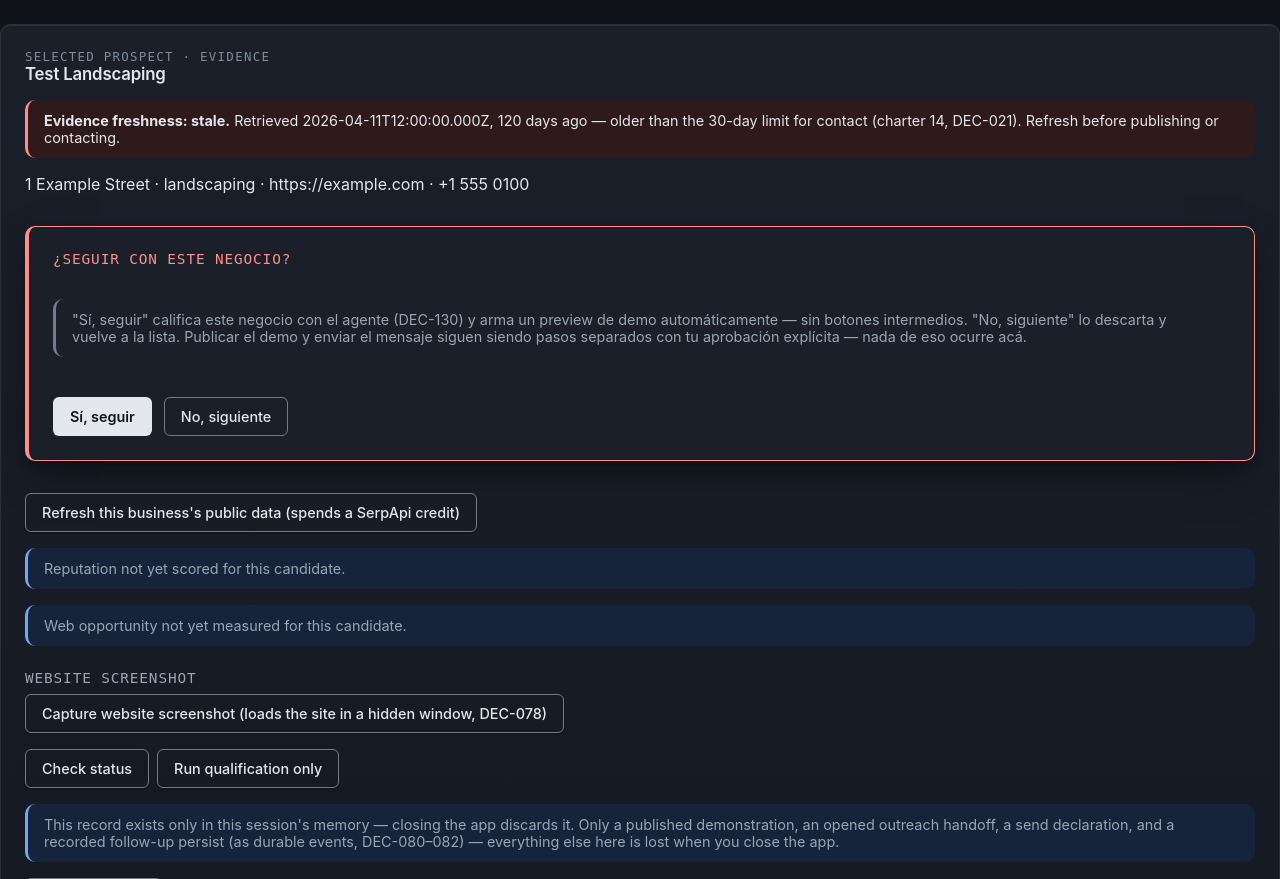
DEC-095 — refreshing stale evidence, and being shown what changed › reports a business that has vanished from its own category search
The width and height of the screenshot is (1280, 879).
Click the button "Refresh this business" at [251, 512], box [25,493,477,532]
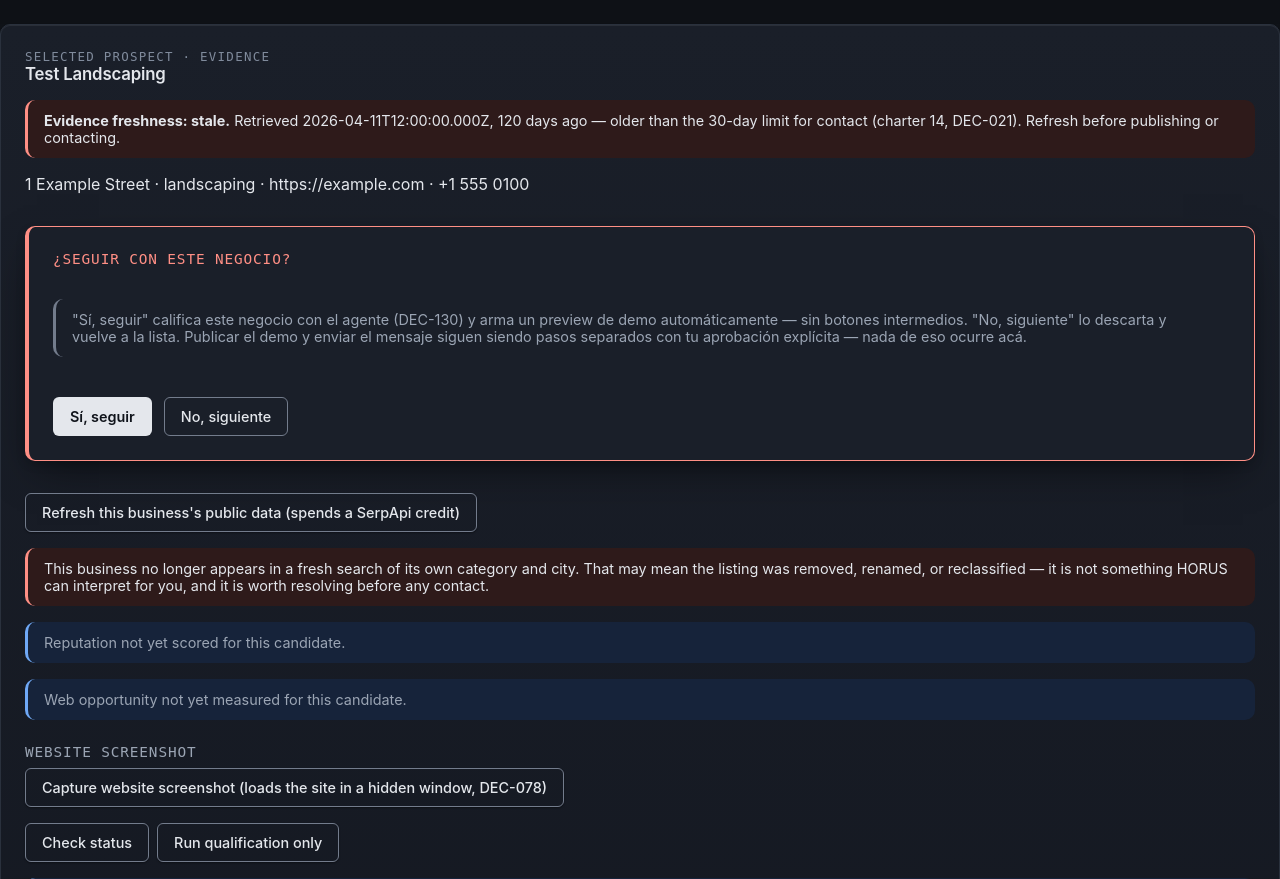
Expected: the text "no longer appears in a fresh search" is shown, [44,560,1228,594]
